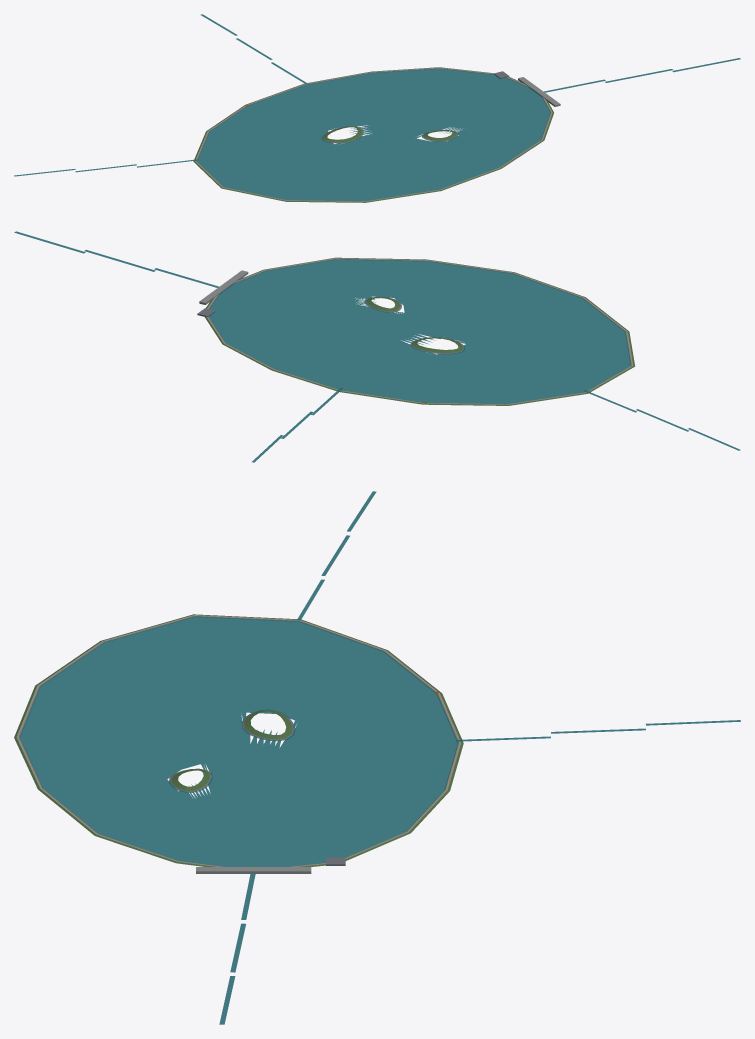
The model's file is water_ho_gia_lam_nam_ban.glb.
The picture shows the model from 3 angles, top to bottom: view 1: azimuth 30°, elevation 25°; view 2: azimuth 150°, elevation 25°; view 3: azimuth 270°, elevation 25°; orthographic projection. The views are drawn at different scales.
Parts seen in each view (by area): view 1: water_surface_water_ho_gia_lam_nam_ban, shoreline_terrain_transition_verge_water_ho_gia_lam_nam_ban, lakeside_promenade_walkway_water_ho_gia_lam_nam_ban, embankment_stone_coping_water_ho_gia_lam_nam_ban, headwater_terraces_stream_gia_lam_east_spillway_to_cam_ly_da, headwater_terraces_stream_gia_lam_west_macadamia_valley_infl; view 2: water_surface_water_ho_gia_lam_nam_ban, shoreline_terrain_transition_verge_water_ho_gia_lam_nam_ban, lakeside_promenade_walkway_water_ho_gia_lam_nam_ban, embankment_stone_coping_water_ho_gia_lam_nam_ban, headwater_terraces_stream_gia_lam_east_spillway_to_cam_ly_da, embankment_stone_slope_water_ho_gia_lam_nam_ban; view 3: water_surface_water_ho_gia_lam_nam_ban, shoreline_terrain_transition_verge_water_ho_gia_lam_nam_ban, lakeside_promenade_walkway_water_ho_gia_lam_nam_ban, embankment_stone_coping_water_ho_gia_lam_nam_ban, headwater_terraces_stream_gia_lam_east_spillway_to_cam_ly_da.
Part boxes in pixels (x1=…): water_surface_water_ho_gia_lam_nam_ban: x1=197, y1=68, x2=550, y2=200; shoreline_terrain_transition_verge_water_ho_gia_lam_nam_ban: x1=193, y1=67, x2=553, y2=202; lakeside_promenade_walkway_water_ho_gia_lam_nam_ban: x1=195, y1=67, x2=552, y2=201; embankment_stone_coping_water_ho_gia_lam_nam_ban: x1=196, y1=68, x2=551, y2=201; headwater_terraces_stream_gia_lam_east_spillway_to_cam_ly_da: x1=544, y1=58, x2=740, y2=92; headwater_terraces_stream_gia_lam_west_macadamia_valley_infl: x1=14, y1=159, x2=197, y2=176; water_surface_water_ho_gia_lam_nam_ban: x1=208, y1=259, x2=630, y2=403; shoreline_terrain_transition_verge_water_ho_gia_lam_nam_ban: x1=204, y1=257, x2=635, y2=405; lakeside_promenade_walkway_water_ho_gia_lam_nam_ban: x1=207, y1=258, x2=633, y2=404; embankment_stone_coping_water_ho_gia_lam_nam_ban: x1=208, y1=258, x2=631, y2=404; headwater_terraces_stream_gia_lam_east_spillway_to_cam_ly_da: x1=14, y1=231, x2=218, y2=287; embankment_stone_slope_water_ho_gia_lam_nam_ban: x1=209, y1=259, x2=631, y2=365; water_surface_water_ho_gia_lam_nam_ban: x1=19, y1=616, x2=458, y2=866; shoreline_terrain_transition_verge_water_ho_gia_lam_nam_ban: x1=14, y1=614, x2=463, y2=872; lakeside_promenade_walkway_water_ho_gia_lam_nam_ban: x1=16, y1=615, x2=460, y2=866; embankment_stone_coping_water_ho_gia_lam_nam_ban: x1=18, y1=616, x2=458, y2=866; headwater_terraces_stream_gia_lam_east_spillway_to_cam_ly_da: x1=219, y1=874, x2=255, y2=1024.
Bounding box in the file's own units: 2697 × 50 × 1609.
